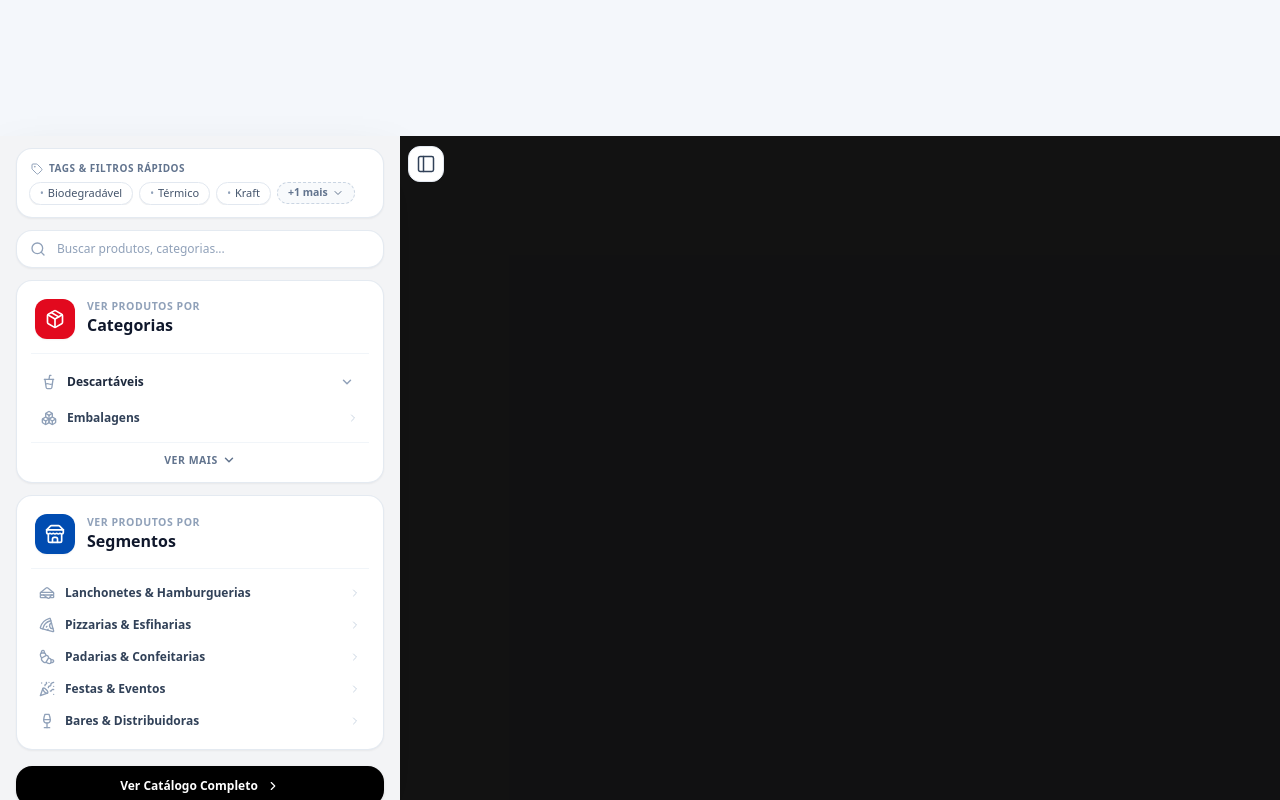
CategorySidebarDrawer › filtra itens dinamicamente pelo campo de busca
The width and height of the screenshot is (1280, 800).
Type "pizza" into the search field with placeholder "Buscar produtos, categorias..." at (200, 248), box [16,230,384,268]
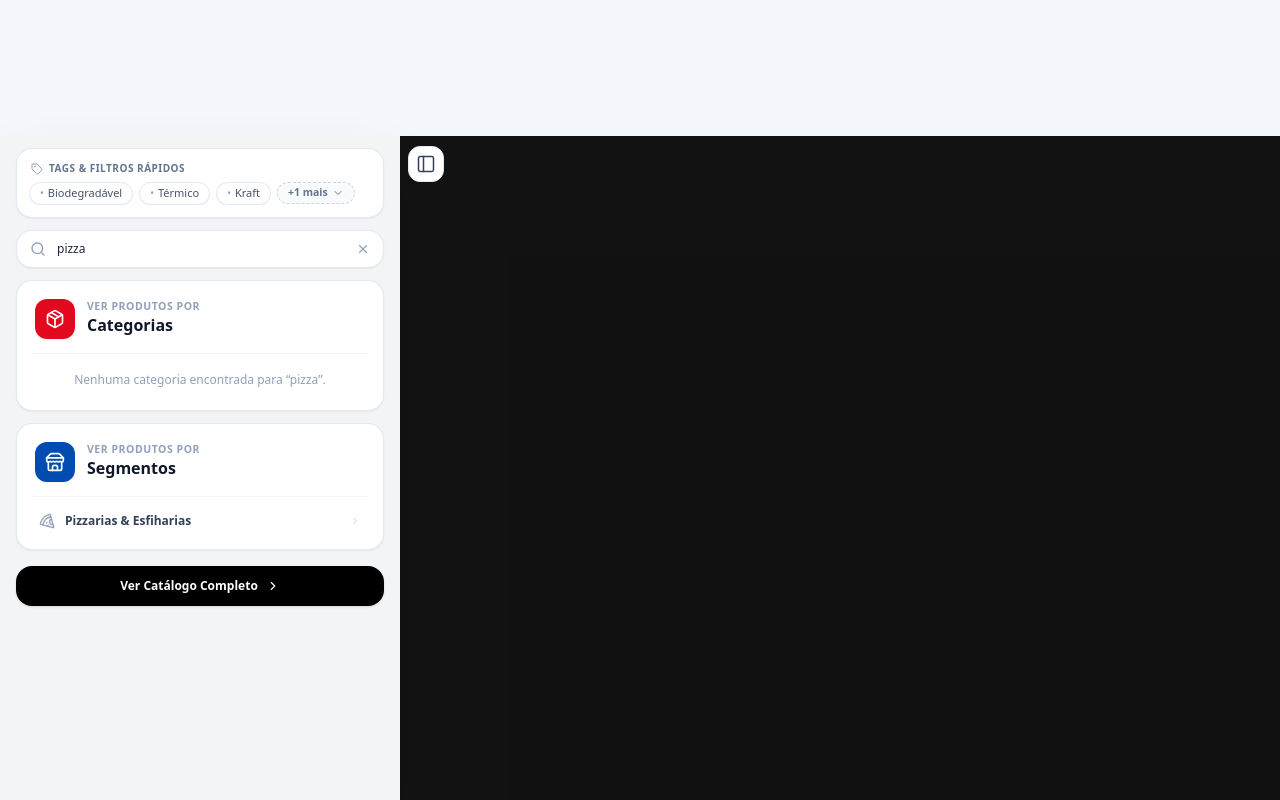
Expected: the text "Pizzarias & Esfiharias" is shown, [65,512,191,528]
Now the link "Lanchonetes & Hamburguerias" is gone
